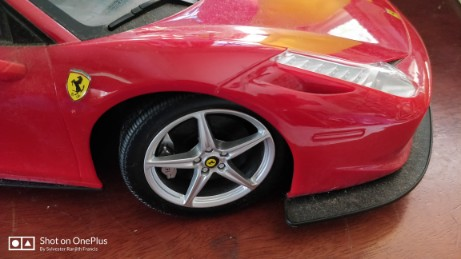unaligned_wheel: (106, 99, 289, 221)
